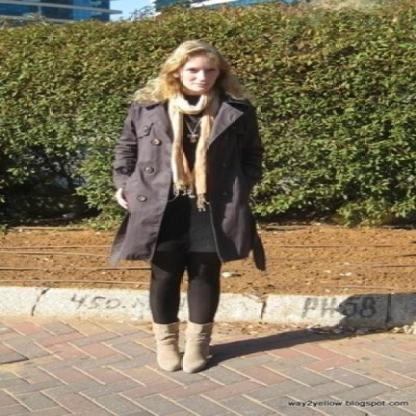jacket: (102, 100, 280, 270)
pants: (142, 252, 220, 323)
shirt: (146, 80, 244, 270)
shoe: (154, 318, 216, 373)
